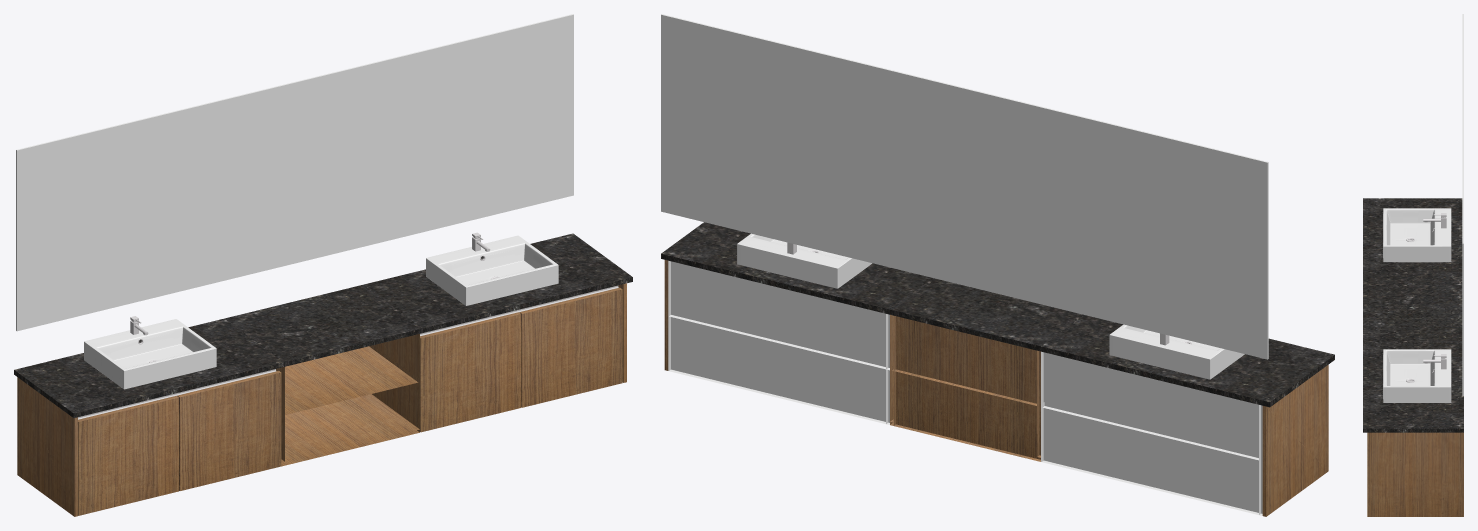
File: NOA-final.glb
3 renders of one model, left to right at view 1: azimuth 30°, elevation 25°; view 2: azimuth 150°, elevation 25°; view 3: azimuth 270°, elevation 25°, orthographic. The views are drawn at different scales.
Visible parts, largest first — view 1: NOA; view 2: NOA; view 3: NOA.
Boxes of the visible parts, x1,y1,x2,y2 form: NOA: [14, 14, 632, 516]; NOA: [661, 14, 1334, 516]; NOA: [1363, 14, 1463, 516].
Size of the model in its own units: 2.48 by 1.38 by 0.4583.
7 materials, 2 textured.
